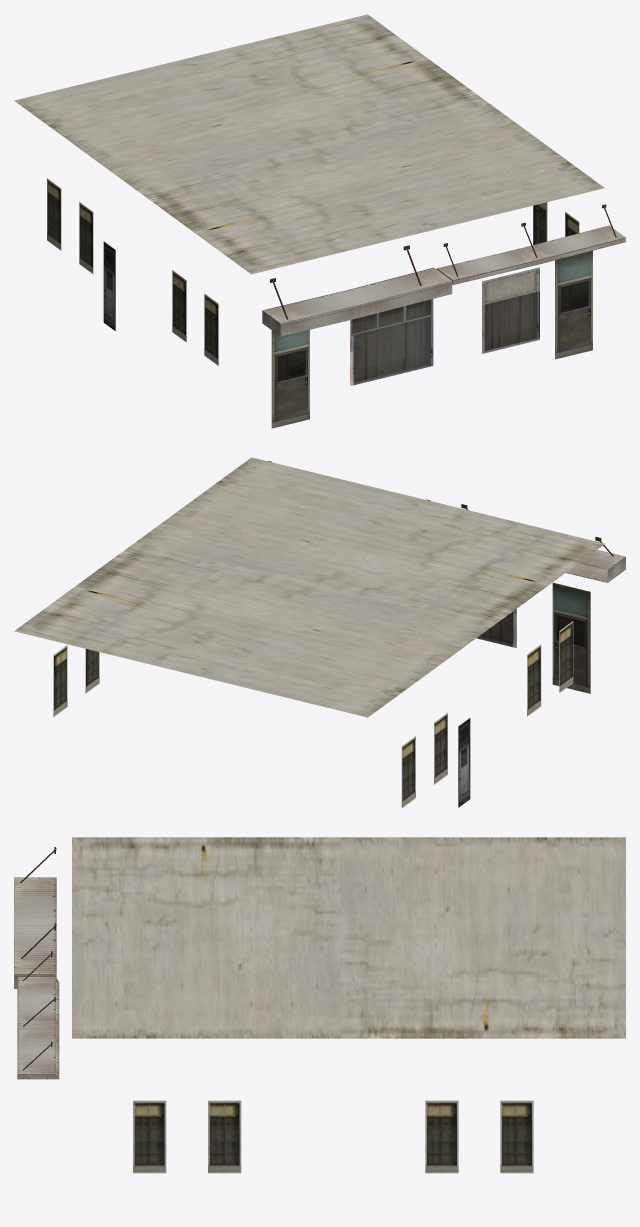
Rendered from rural_storesmall_6_rural_facade_flr_2_0_lev2.glb.
3 renders of one model, top to bottom at view 1: azimuth 30°, elevation 25°; view 2: azimuth 150°, elevation 25°; view 3: azimuth 270°, elevation 25°, orthographic. The views are drawn at different scales.
Visible parts, largest first — view 1: rural_storesmall_6_rural_facade_flr_2_0_lev2; view 2: rural_storesmall_6_rural_facade_flr_2_0_lev2; view 3: rural_storesmall_6_rural_facade_flr_2_0_lev2.
Boxes of the visible parts, x1,y1,x2,y2 form: rural_storesmall_6_rural_facade_flr_2_0_lev2: (14, 14, 625, 428); rural_storesmall_6_rural_facade_flr_2_0_lev2: (14, 457, 625, 808); rural_storesmall_6_rural_facade_flr_2_0_lev2: (14, 837, 625, 1173).
Size of the model in its own units: 11.88 by 5.01 by 15.23.
1 material, 1 textured.
